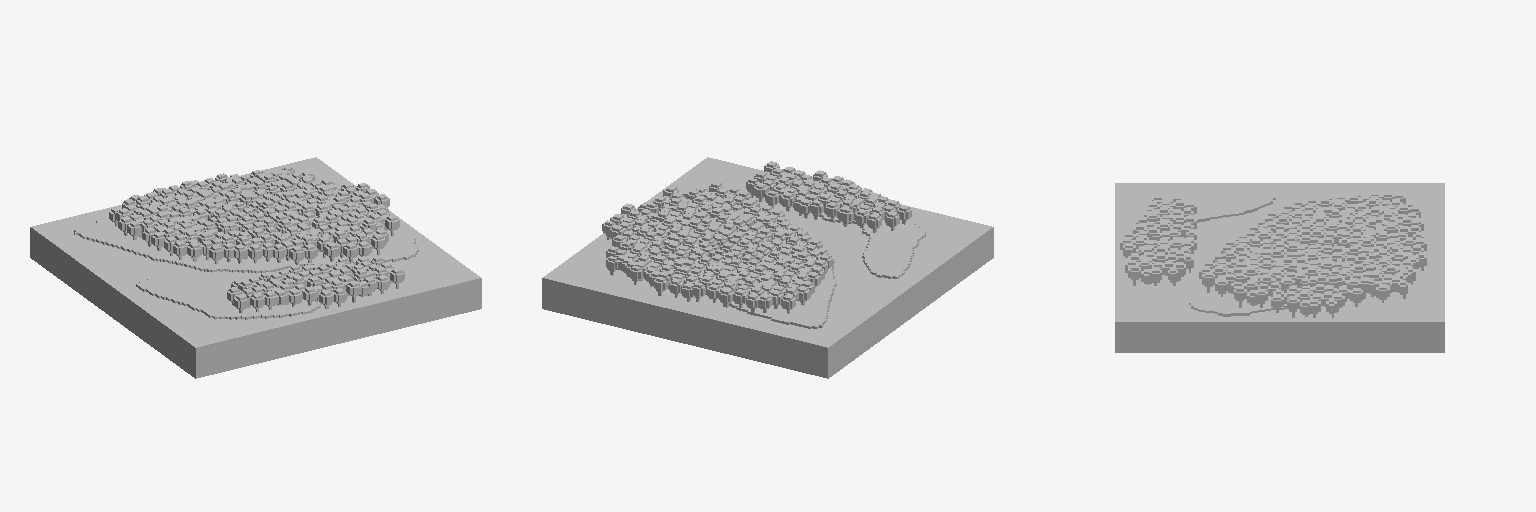
Rendered from Map (37).obj.
3 renders of one model, left to right at view 1: azimuth 30°, elevation 25°; view 2: azimuth 150°, elevation 25°; view 3: azimuth 270°, elevation 25°, orthographic.
Parts seen in each view (by area): view 1: ALL MAP!!!!!!!!!!!-34; view 2: ALL MAP!!!!!!!!!!!-34; view 3: ALL MAP!!!!!!!!!!!-34.
Part boxes in pixels (x1,y1,x2,y2): ALL MAP!!!!!!!!!!!-34: (30,157,481,378); ALL MAP!!!!!!!!!!!-34: (542,157,993,378); ALL MAP!!!!!!!!!!!-34: (1115,183,1444,352).
Bounding box in the file's own units: 125 × 23 × 125.